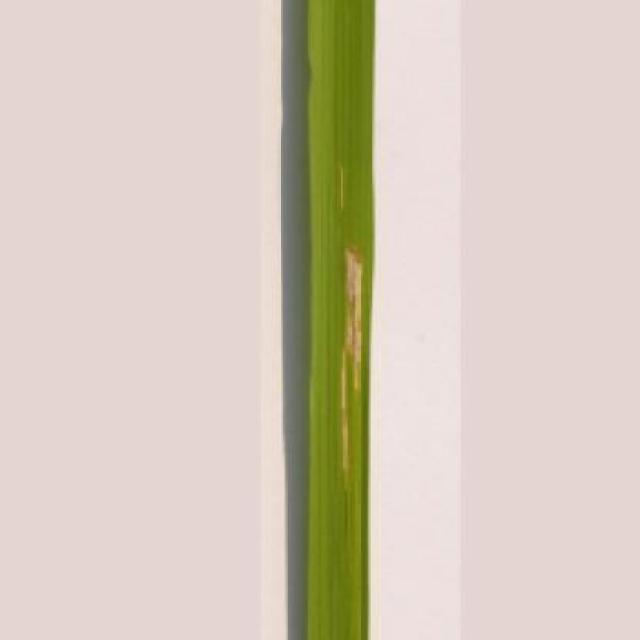Brown_Spot: (306, 0, 379, 640)
